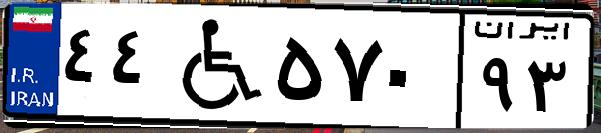0: (385, 28, 445, 110)
3: (525, 38, 570, 115)
4: (57, 26, 110, 100), (110, 28, 158, 98)
5: (270, 28, 330, 110)
7: (330, 28, 385, 110)
9: (475, 38, 525, 113)
ژ (معلولین و جانبازان): (158, 12, 270, 120)
